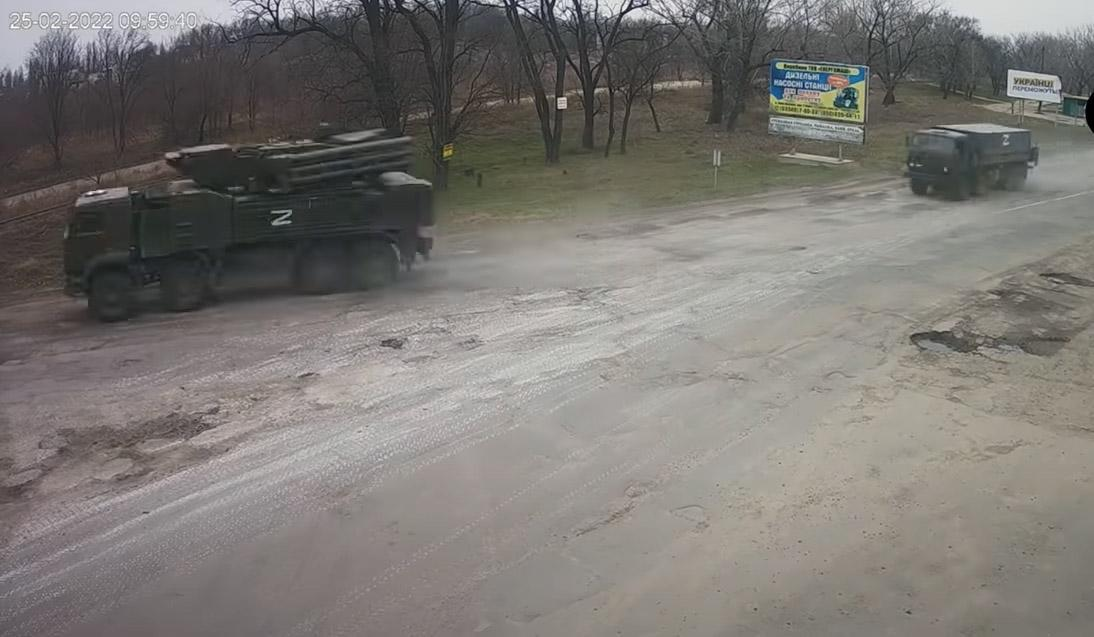truck: (61, 130, 441, 314), (900, 115, 1038, 197)
